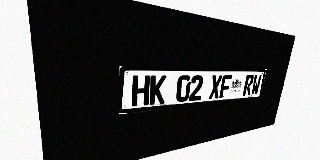0: (176, 75, 191, 102)
2: (189, 75, 204, 101)
F: (219, 75, 232, 98)
H: (132, 75, 150, 107)
K: (149, 75, 166, 105)
R: (243, 75, 254, 96)
W: (251, 75, 262, 95)
X: (209, 75, 222, 99)
